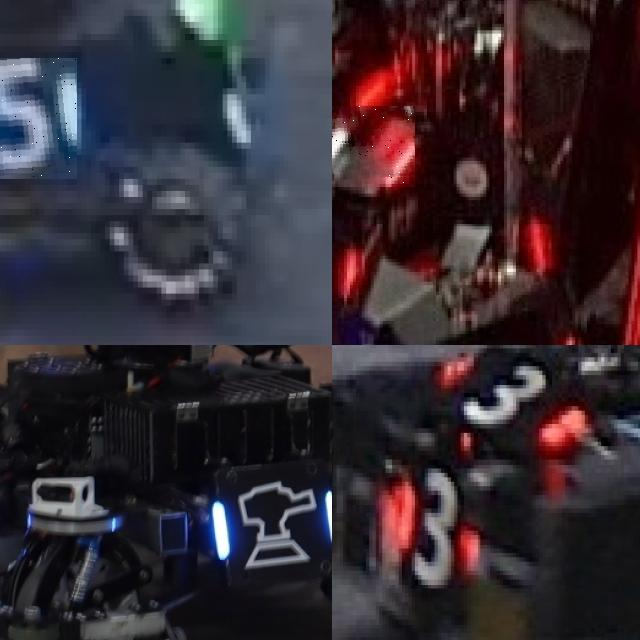B5: (0, 58, 77, 179)
Bs: (209, 478, 332, 574)
R1: (332, 105, 415, 187)
R3: (428, 345, 598, 453), (379, 453, 487, 591)
